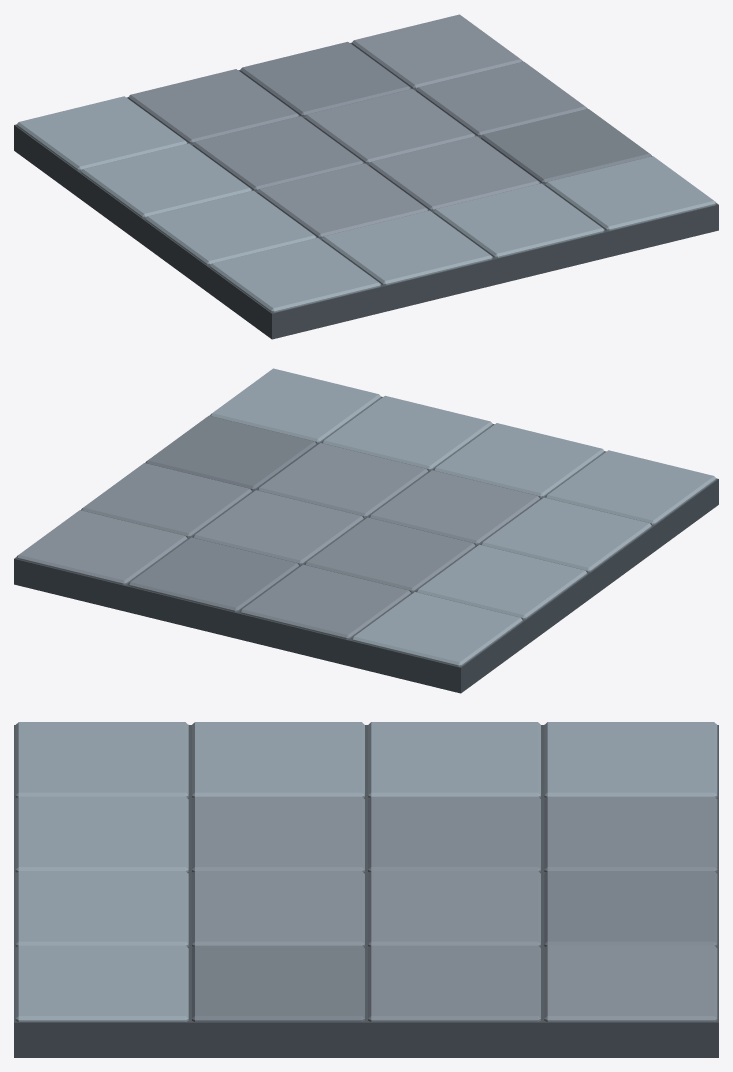
The model's file is MOD_11_Floor_CornerVariation.glb.
The picture shows the model from 3 angles, top to bottom: view 1: azimuth 30°, elevation 25°; view 2: azimuth 150°, elevation 25°; view 3: azimuth 270°, elevation 25°; orthographic projection. The views are drawn at different scales.
Visible parts, largest first — view 1: MOD_11_Floor_CornerVariation; view 2: MOD_11_Floor_CornerVariation; view 3: MOD_11_Floor_CornerVariation.
Part boxes in pixels (left/top/right/bottom): MOD_11_Floor_CornerVariation: left=14, top=14, right=718, bottom=339; MOD_11_Floor_CornerVariation: left=14, top=368, right=718, bottom=693; MOD_11_Floor_CornerVariation: left=14, top=722, right=718, bottom=1057.
Bounding box in the file's own units: 4 × 0.25 × 4.
